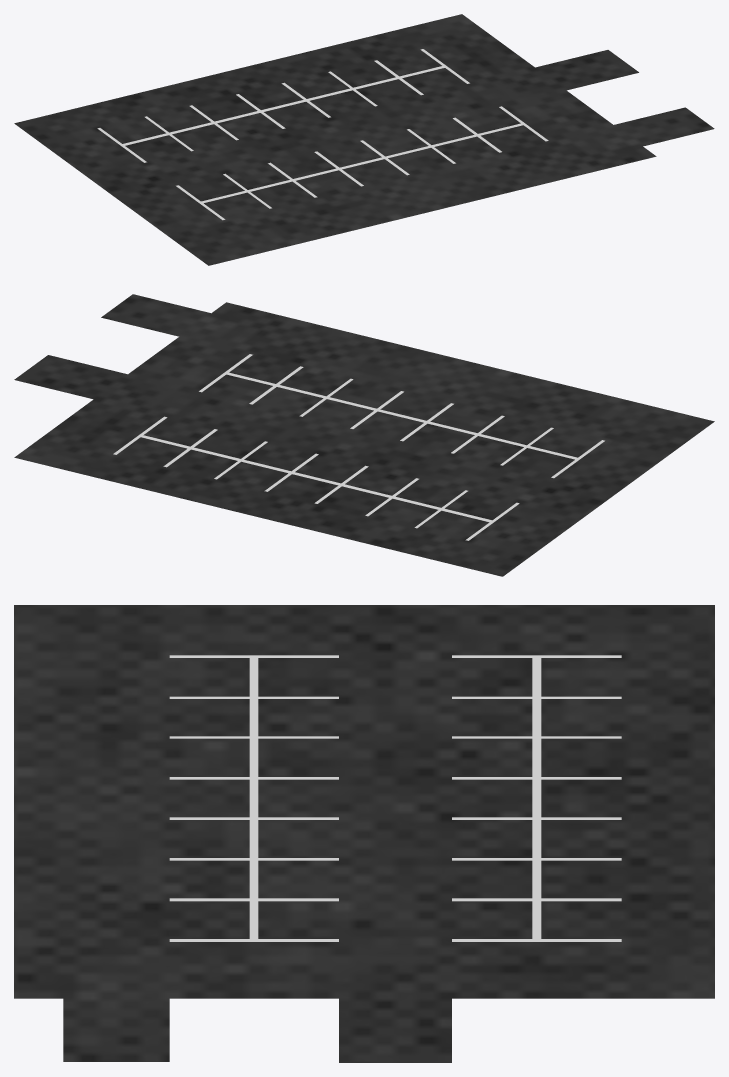
Rendered from ParkingLot.fbx.
3 renders of one model, top to bottom at view 1: azimuth 30°, elevation 25°; view 2: azimuth 150°, elevation 25°; view 3: azimuth 270°, elevation 25°, orthographic. The views are drawn at different scales.
Visible parts, largest first — view 1: Plane.001; view 2: Plane.001; view 3: Plane.001.
Boxes of the visible parts, box(x1,y1,x2,y2) form: Plane.001: box(14, 14, 714, 265); Plane.001: box(14, 294, 714, 576); Plane.001: box(14, 605, 714, 1062).
Bounding box in the file's own units: 9887 × 0.00104 × 6395.
Materials: 2 (1 with a texture image).
